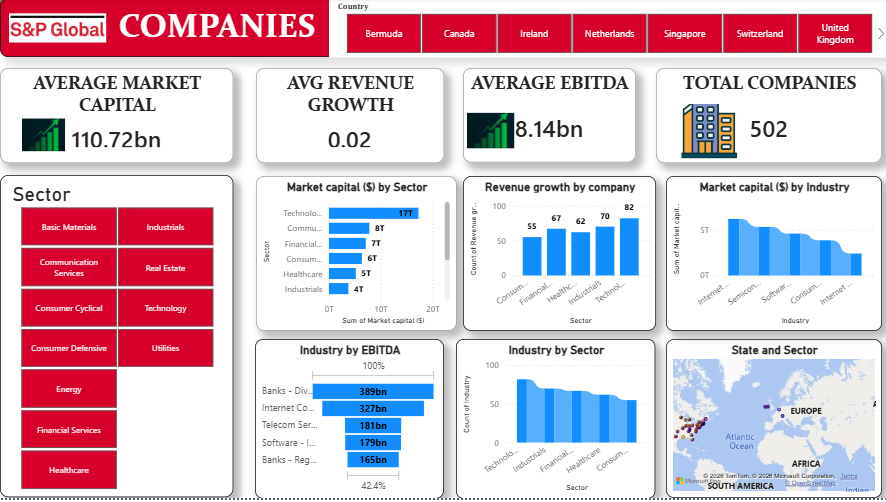

The page's visual inventory and layout, read from the dashboard file:
{"tool":"powerbi","page":{"name":"Companies Dahboard","canvas":[1280,720],"ordinal":0},"visuals":[{"type":"shape","box":[0,0,1280,72.2],"z":0},{"type":"textbox","box":[0,0,1280,85],"z":1000},{"type":"cardVisual","title":"AVERAGE MARKET CAPITAL","fields":{"Data":["Avg(sp500_companies.Market capital ($))"]},"box":[0,100.8,335.5,136.8],"z":2000},{"type":"cardVisual","title":"AVG REVENUE GROWTH","fields":{"Data":["Avg(sp500_companies.Revenue growth(%))"]},"box":[368.6,100.8,270.7,136.8],"z":3000},{"type":"cardVisual","title":"AVERAGE EBITDA","fields":{"Data":["Avg(sp500_companies.Ebitda ($))"]},"box":[666.9,100.8,248.6,136.1],"z":4000},{"type":"barChart","title":"Market capital ($) by Sector","fields":{"Category":["sp500_companies.Sector"],"Y":["Sum(sp500_companies.Market capital ($))"]},"box":[368.6,256.3,289.4,223.2],"z":5000},{"type":"lineStackedColumnComboChart","title":"Revenue growth by company","fields":{"Category":["sp500_companies.Sector","sp500_companies.Revenue growth(%)"],"Y":["CountNonNull(sp500_companies.Revenue growth(%))"]},"box":[666.7,256.3,277.9,223.2],"z":6000},{"type":"map","fields":{"Category":["sp500_companies.State"],"Series":["sp500_companies.Sector"]},"box":[959,491,311,229],"z":7000},{"type":"ribbonChart","title":"Market capital ($) by Industry","fields":{"Category":["sp500_companies.Industry"],"Y":["Sum(sp500_companies.Market capital ($))"]},"box":[959,256.3,311,223.2],"z":8000},{"type":"image","box":[13,10.1,139.7,66.2],"z":9000},{"type":"cardVisual","title":"TOTAL COMPANIES","fields":{"Data":["CountNonNull(sp500_companies.Sector)"]},"box":[944.6,100.8,325.4,136.8],"z":10000},{"type":"image","box":[31.9,166.3,62.2,63.8],"z":11000},{"type":"image","box":[672.5,158.4,67.7,64.8],"z":12000},{"type":"image","box":[976.3,152.6,89.3,77.8],"z":14000},{"type":"ribbonChart","title":"Industry by Sector","fields":{"Category":["sp500_companies.Sector"],"Y":["CountNonNull(sp500_companies.Industry)"]},"box":[656.8,490.5,287.2,230.1],"z":15000},{"type":"funnel","title":"Industry by EBITDA","fields":{"Y":["Sum(sp500_companies.Ebitda ($))"],"Category":["sp500_companies.Industry"]},"box":[367.9,490.5,272.1,230.1],"z":16000},{"type":"slicer","fields":{"Values":["sp500_companies.Sector"]},"box":[0,255.3,336,463.6],"z":17000},{"type":"slicer","fields":{"Values":["sp500_companies.Country"]},"box":[473.7,0,806.3,85.7],"z":18000}]}

Visuals, with their boxes in screenshot pixels (x1, y1, x2, y2), scaled from the page's 1280x720 canvas onto the 886x502 screenshot:
shape: x1=0, y1=0, x2=885, y2=50
textbox: x1=0, y1=0, x2=885, y2=59
"AVERAGE MARKET CAPITAL" cardVisual: x1=0, y1=70, x2=232, y2=166
"AVG REVENUE GROWTH" cardVisual: x1=255, y1=70, x2=443, y2=166
"AVERAGE EBITDA" cardVisual: x1=462, y1=70, x2=634, y2=165
"Market capital ($) by Sector" barChart: x1=255, y1=179, x2=455, y2=334
"Revenue growth by company" lineStackedColumnComboChart: x1=461, y1=179, x2=654, y2=334
map - sp500_companies.State x sp500_companies.Sector: x1=664, y1=342, x2=879, y2=501
"Market capital ($) by Industry" ribbonChart: x1=664, y1=179, x2=879, y2=334
image: x1=9, y1=7, x2=106, y2=53
"TOTAL COMPANIES" cardVisual: x1=654, y1=70, x2=879, y2=166
image: x1=22, y1=116, x2=65, y2=160
image: x1=465, y1=110, x2=512, y2=156
image: x1=676, y1=106, x2=738, y2=161
"Industry by Sector" ribbonChart: x1=455, y1=342, x2=653, y2=501
"Industry by EBITDA" funnel: x1=255, y1=342, x2=443, y2=501
slicer - sp500_companies.Sector: x1=0, y1=178, x2=233, y2=501
slicer - sp500_companies.Country: x1=328, y1=0, x2=885, y2=60
